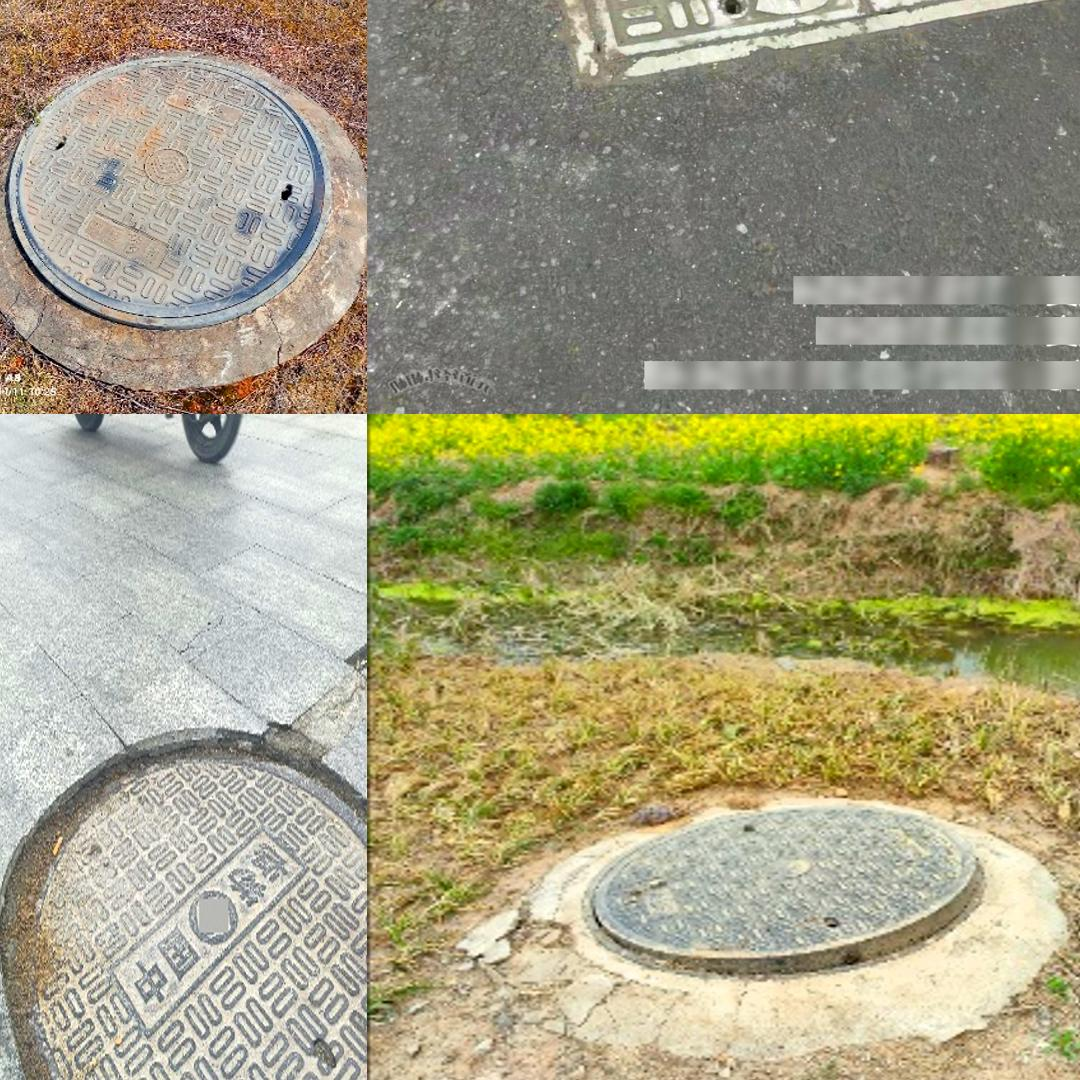good: (21, 747, 364, 1080), (5, 57, 333, 329), (575, 807, 981, 977), (516, 0, 1080, 80)
